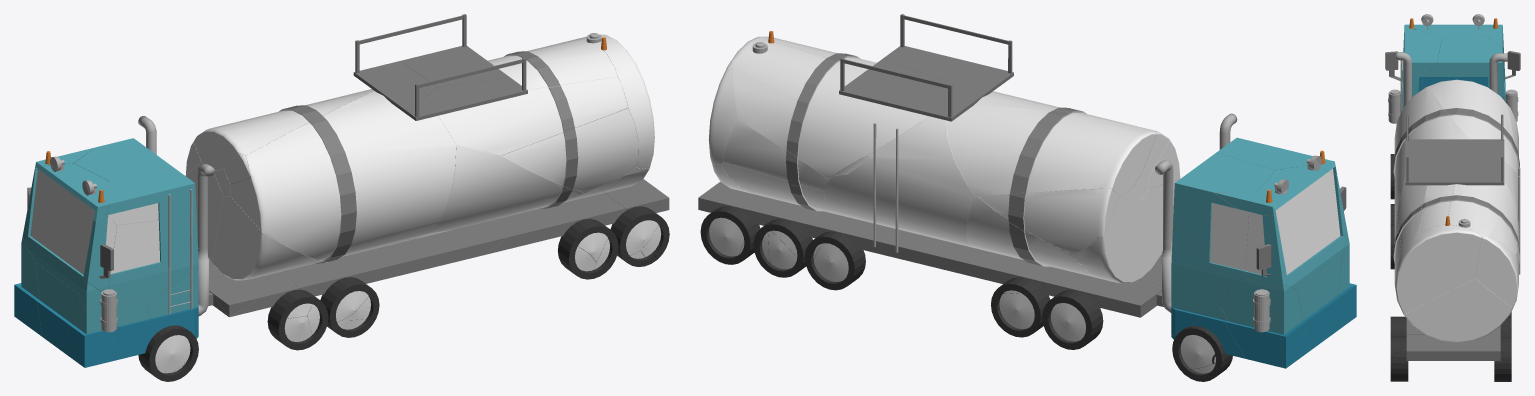
File: Oil Blue Shatter.fbx
The picture shows the model from 3 angles, left to right: view 1: azimuth 30°, elevation 25°; view 2: azimuth 150°, elevation 25°; view 3: azimuth 270°, elevation 25°; orthographic projection. The views are drawn at different scales.
Visible parts, largest first — view 1: Cylinder.100_cell.019, Truck Body.008_cell.008, Cylinder.100_cell.006, Cylinder.100_cell.015, Cylinder.100_cell.018, Truck Body.008_cell.019, Truck Body.008_cell.023, Truck Body.008_cell.002, Cylinder.100_cell.005, Cylinder.100_cell.013, Truck Body.008_cell.024, Cube.014_cell.001 (+30 smaller); view 2: Cylinder.100_cell.013, Cylinder.100_cell.008, Cylinder.100_cell.021, Truck Body.008_cell.008, Truck Body.008_cell.019, Truck Body.008_cell.009, Cylinder.100_cell.017, Truck Body.008_cell.021, Cylinder.100_cell.002, Cylinder.100_cell, Truck Body.008_cell.016, Cylinder.100_cell.001 (+30 smaller); view 3: Cylinder.100_cell.012, Cylinder.100_cell.009, Cylinder.100_cell.013, Cylinder.100_cell.008, Truck Body.008_cell.009, Cylinder.100_cell.019, Truck Body.008_cell.013, Cylinder.100_cell.011, Cube.014_cell.002, Cube.014_cell.001, Truck Body.008_cell.024, Cube.014_cell (+25 smaller).
Part boxes in pixels (x1,y1,x2,y2): Cylinder.100_cell.019: (230,91,456,261); Truck Body.008_cell.008: (22,163,116,293); Cylinder.100_cell.006: (438,77,627,155); Cylinder.100_cell.015: (429,145,583,233); Cylinder.100_cell.018: (501,108,638,192); Truck Body.008_cell.019: (346,193,625,255); Truck Body.008_cell.023: (108,217,196,305); Truck Body.008_cell.002: (285,237,507,296); Cylinder.100_cell.005: (212,196,326,280); Cylinder.100_cell.013: (193,89,373,170); Truck Body.008_cell.024: (103,168,196,225); Cube.014_cell.001: (406,57,527,120); Cylinder.100_cell.013: (947,107,1156,197); Cylinder.100_cell.008: (732,42,928,179); Cylinder.100_cell.021: (823,116,974,246); Truck Body.008_cell.008: (1244,165,1347,289); Truck Body.008_cell.019: (741,195,1066,287); Truck Body.008_cell.009: (1173,153,1275,284); Cylinder.100_cell.017: (980,188,1119,254); Truck Body.008_cell.021: (1171,225,1231,335); Cylinder.100_cell.002: (966,196,1099,278); Cylinder.100_cell: (1073,189,1141,283); Truck Body.008_cell.016: (1220,277,1282,367); Cylinder.100_cell.001: (723,120,828,190); Cylinder.100_cell.012: (1394,224,1481,314); Cylinder.100_cell.009: (1403,278,1512,342); Cylinder.100_cell.013: (1428,79,1517,176); Cylinder.100_cell.008: (1448,181,1519,256); Truck Body.008_cell.009: (1421,35,1505,101); Cylinder.100_cell.019: (1393,87,1468,207); Truck Body.008_cell.013: (1406,334,1500,360); Cylinder.100_cell.011: (1475,236,1518,307); Cube.014_cell.002: (1434,135,1504,185); Cube.014_cell.001: (1405,114,1445,185); Truck Body.008_cell.024: (1403,29,1441,88); Cube.014_cell: (1420,114,1504,157).
Bounding box in the file's own units: 899 × 330 × 224.
